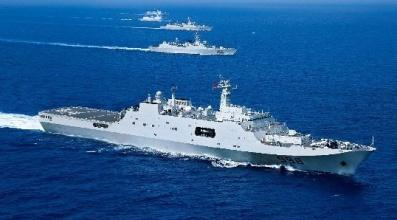warship: (37, 73, 379, 178), (142, 29, 244, 61), (157, 18, 228, 30)
